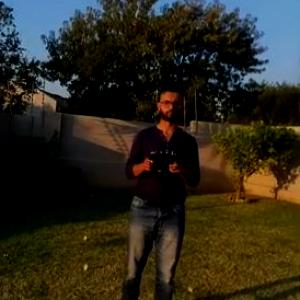follow: (118, 67, 209, 299)
